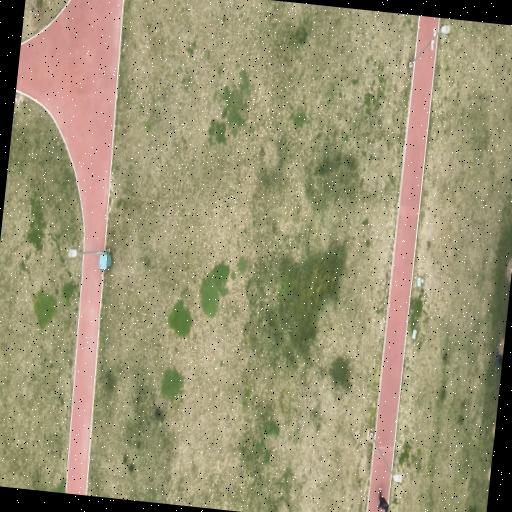person: (377, 488, 388, 511), (494, 352, 502, 370)
